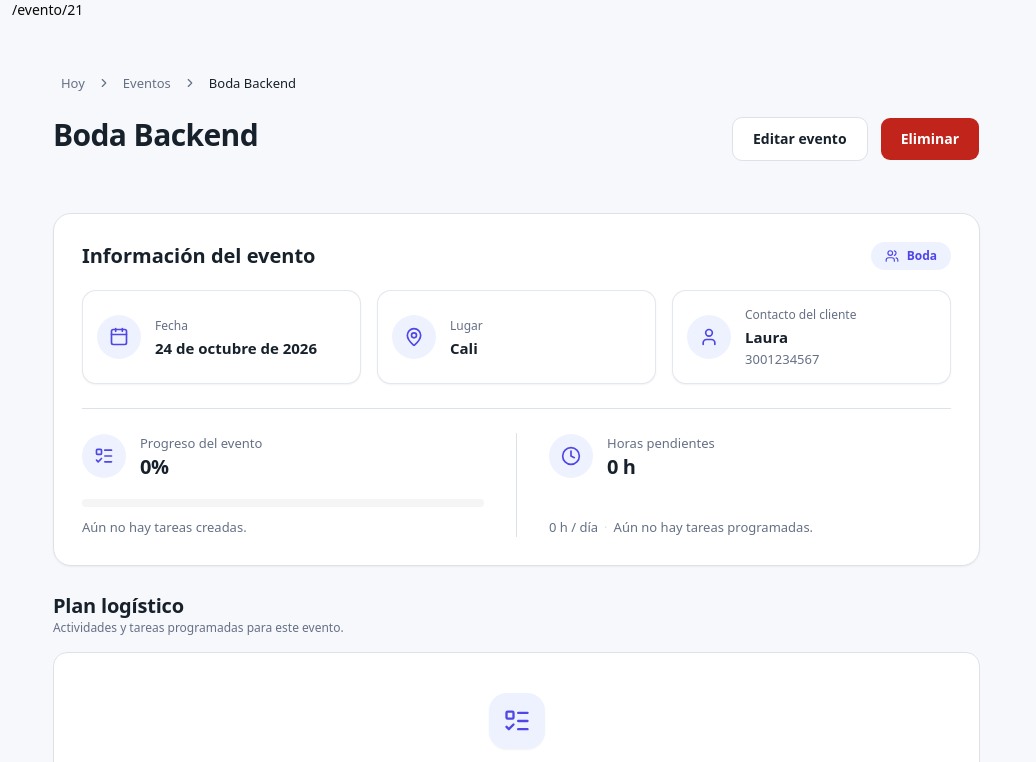
Test case: EventDetailPage › edita el evento y muestra la confirmación con los datos actualizados
Click the button "Editar evento" at (800, 139), box [732,117,868,161]
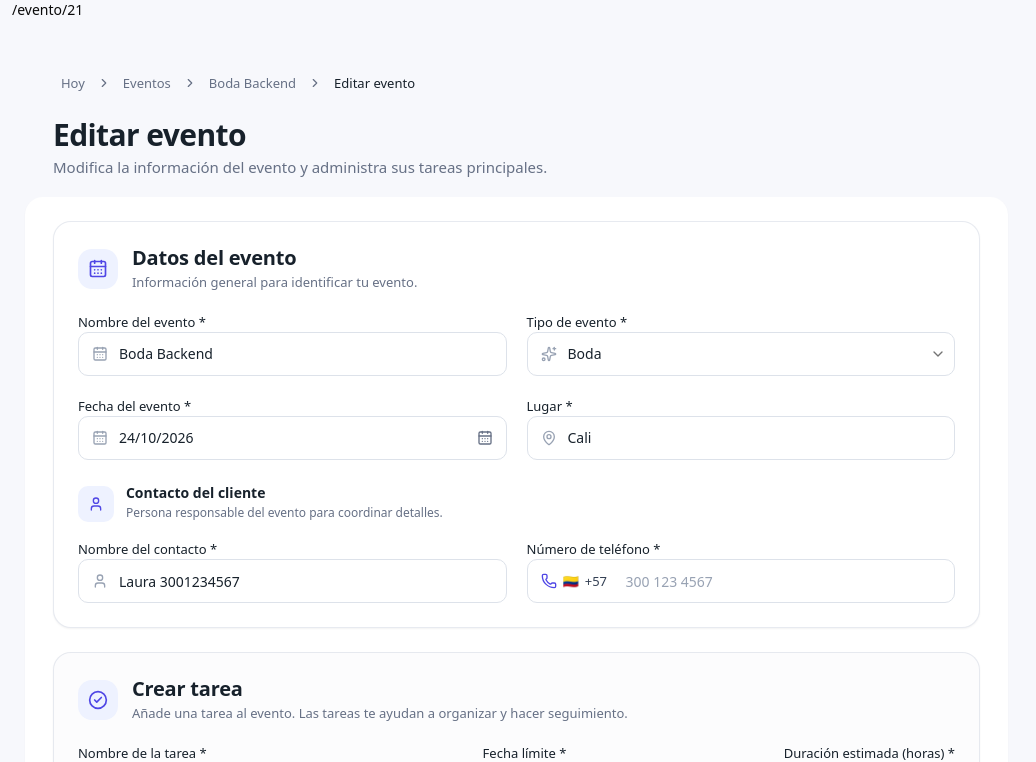
Expected: the text with test id "location" reads "/evento/21", [12,0,83,19]
Replace the text in the field labelled "Nombre del evento *" with "Boda actualizada" at (292, 354), box [78,332,506,376]
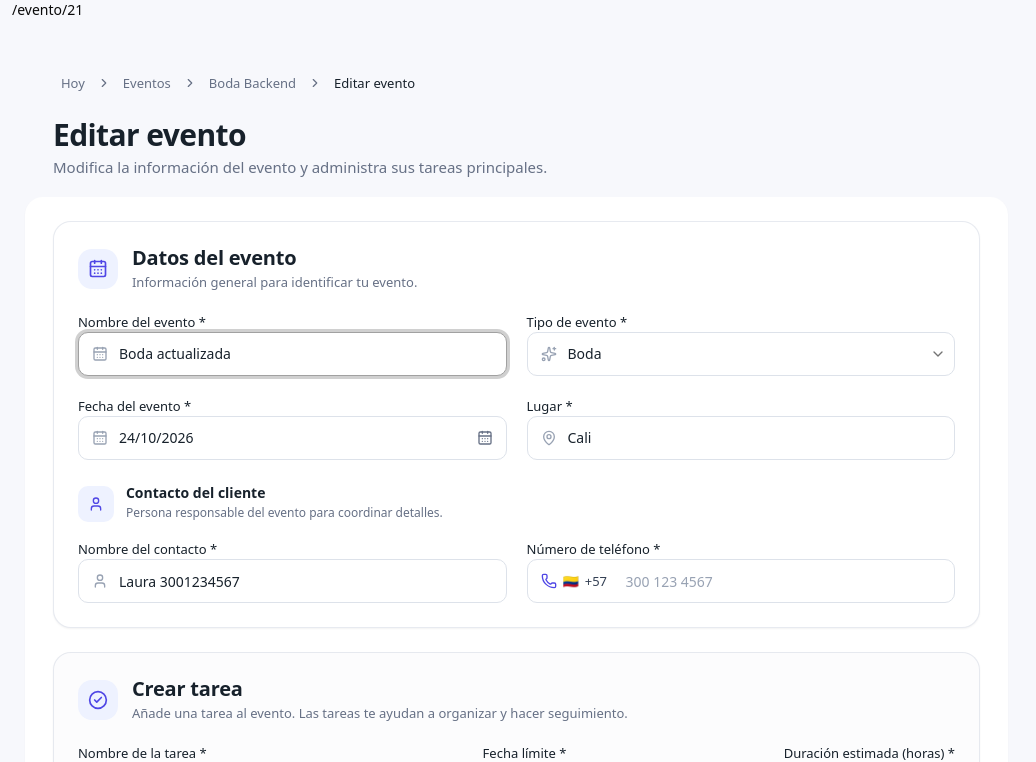
Result: the field labelled "contacto *" holds "Laura 3001234567"
Replace the text in the field labelled "contacto *" with "Daniel 3109876543" at (292, 582), box [78,560,506,604]
(page scrolled)
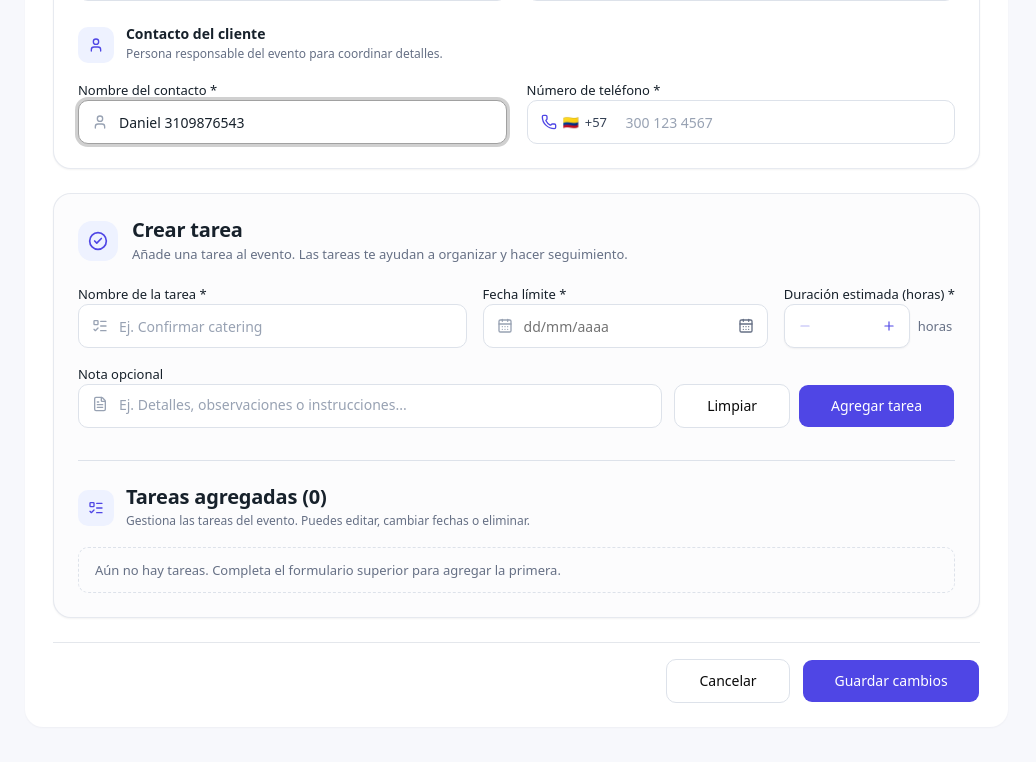
Click the button "Guardar cambios" at (891, 682), box [802,660,980,704]
(page scrolled)
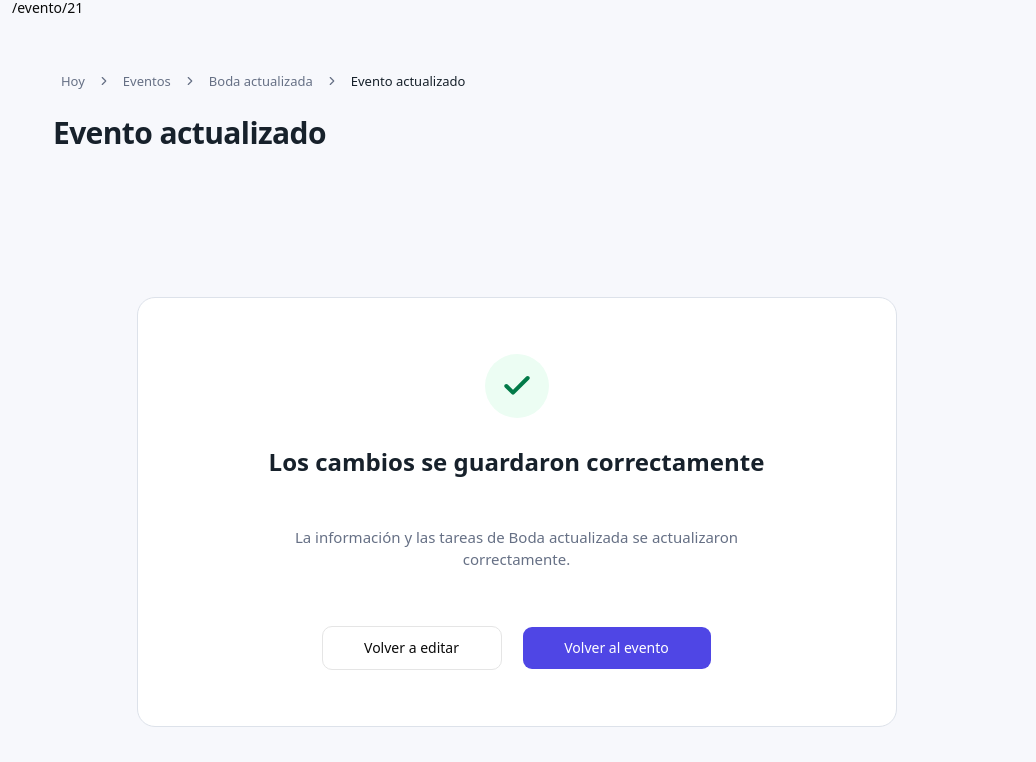
Result: the heading "Evento actualizado" is shown at [53,112,326,153]
Click the button "Volver al evento" at (616, 648), box [522,626,712,670]
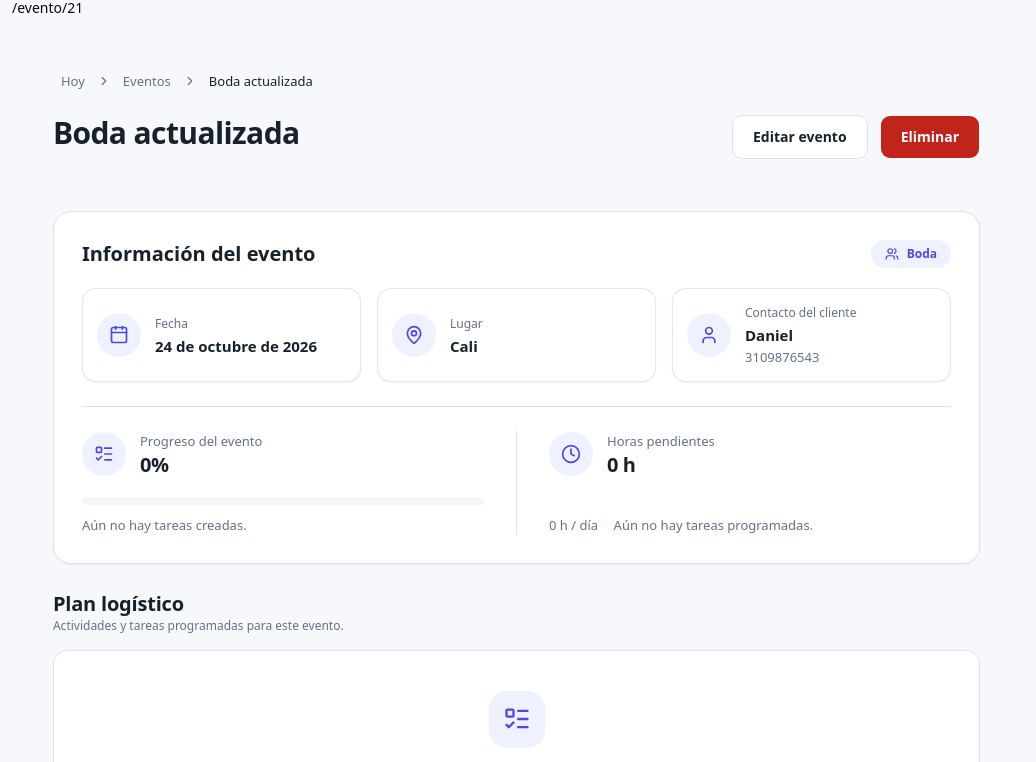
Result: the heading "Boda actualizada" is shown at [53,115,300,151]
